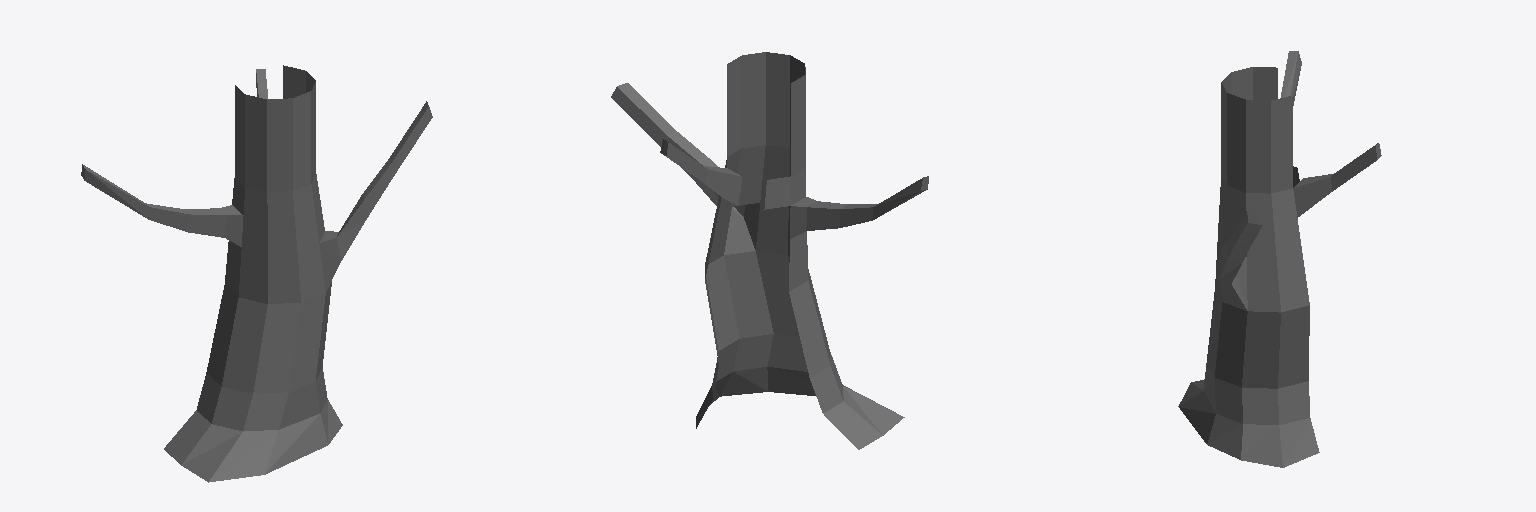
The model's file is cerisier01.obj.
3 views of the same model, side by side, from view 1: azimuth 30°, elevation 25°; view 2: azimuth 150°, elevation 25°; view 3: azimuth 270°, elevation 25° (orthographic).
Bounding box in the file's own units: 2.04 × 2.09 × 1.08.